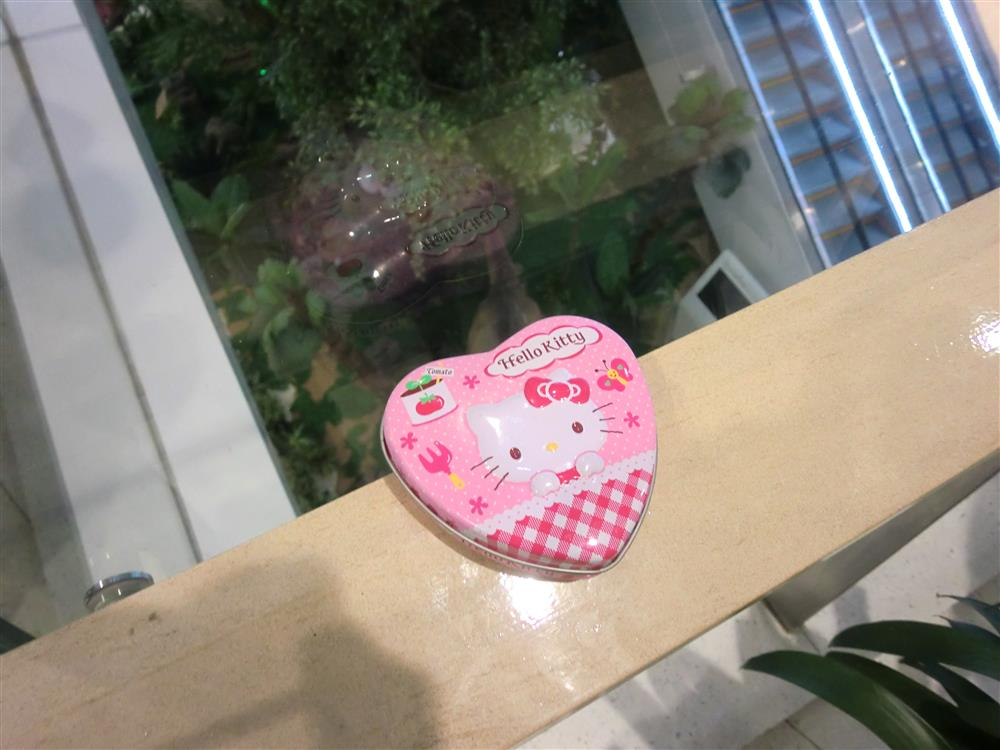hello_kitty: (376, 299, 677, 602)
